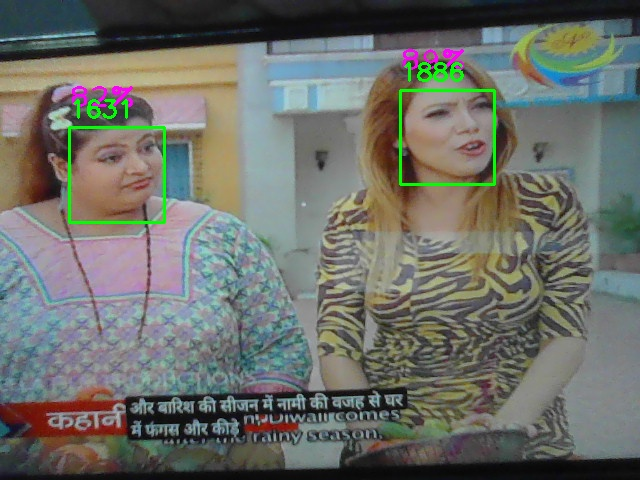fake: (69, 127, 165, 223), (400, 90, 495, 185)
